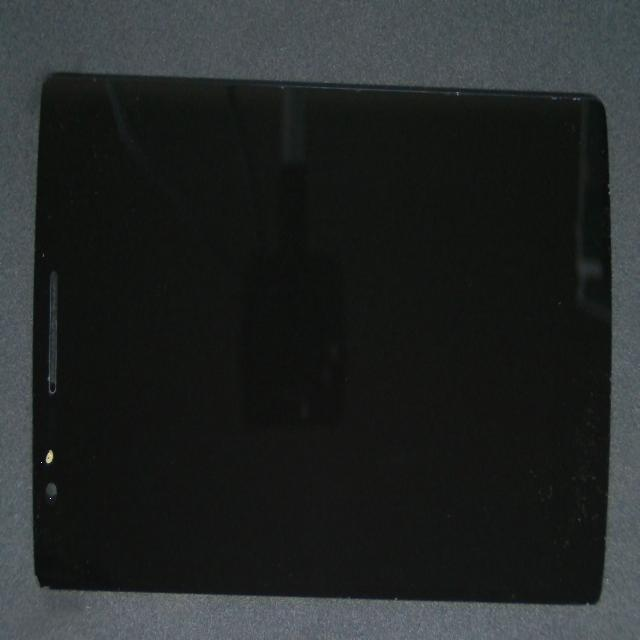stain: (17, 197, 53, 640)
